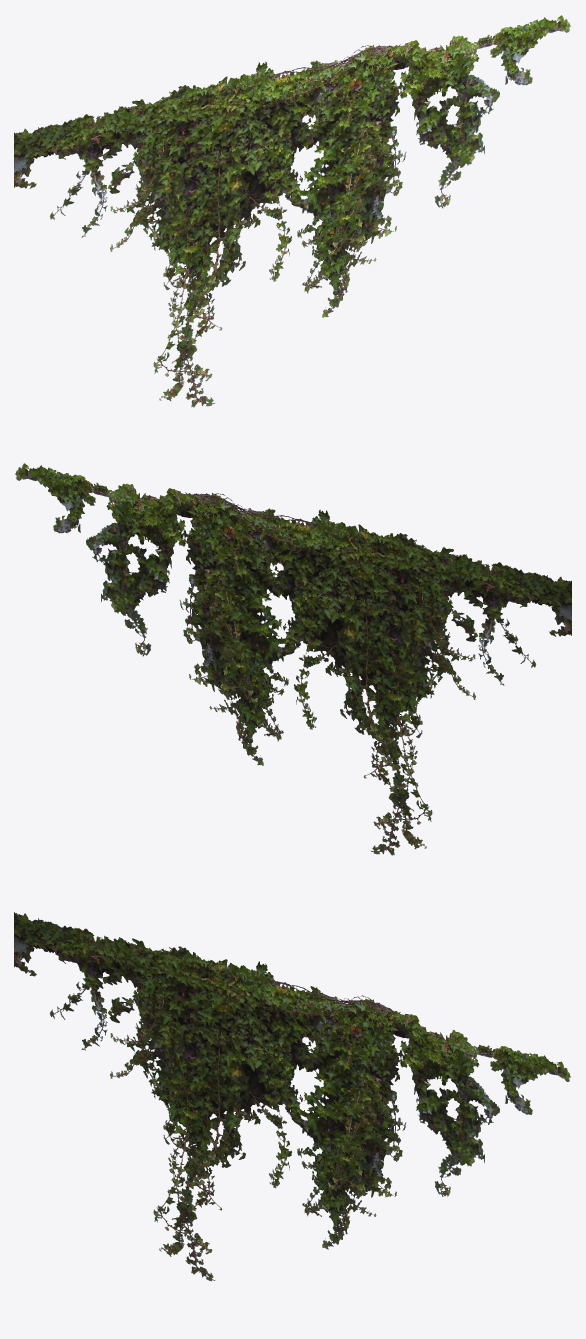
Rendered from ivy1.fbx.
The picture shows the model from 3 angles, top to bottom: view 1: azimuth 30°, elevation 25°; view 2: azimuth 150°, elevation 25°; view 3: azimuth 330°, elevation 25°; orthographic projection.
Parts seen in each view (by area): view 1: Model; view 2: Model; view 3: Model.
Boxes of the visible parts, box(x1,y1,x2,y2) form: Model: box(14, 15, 570, 407); Model: box(15, 463, 571, 855); Model: box(14, 912, 570, 1281).
Bounding box in the file's own units: 26.36 × 15.53 × 4.33e-13.
